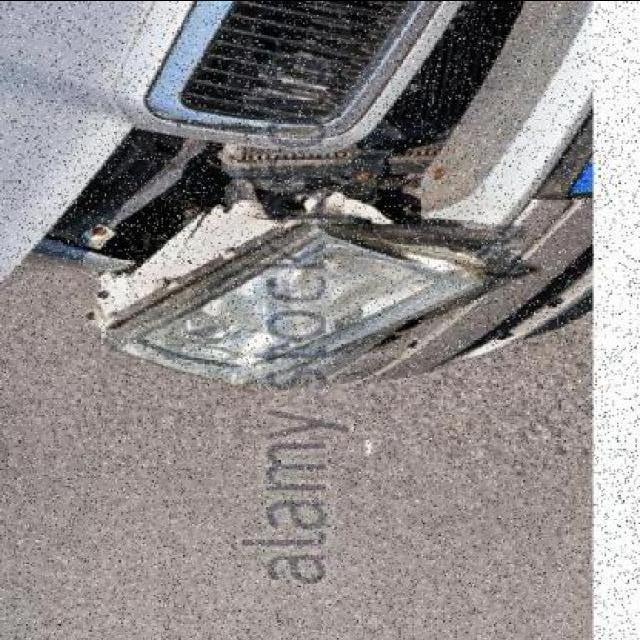Headlight-Damage: (71, 168, 503, 401)
